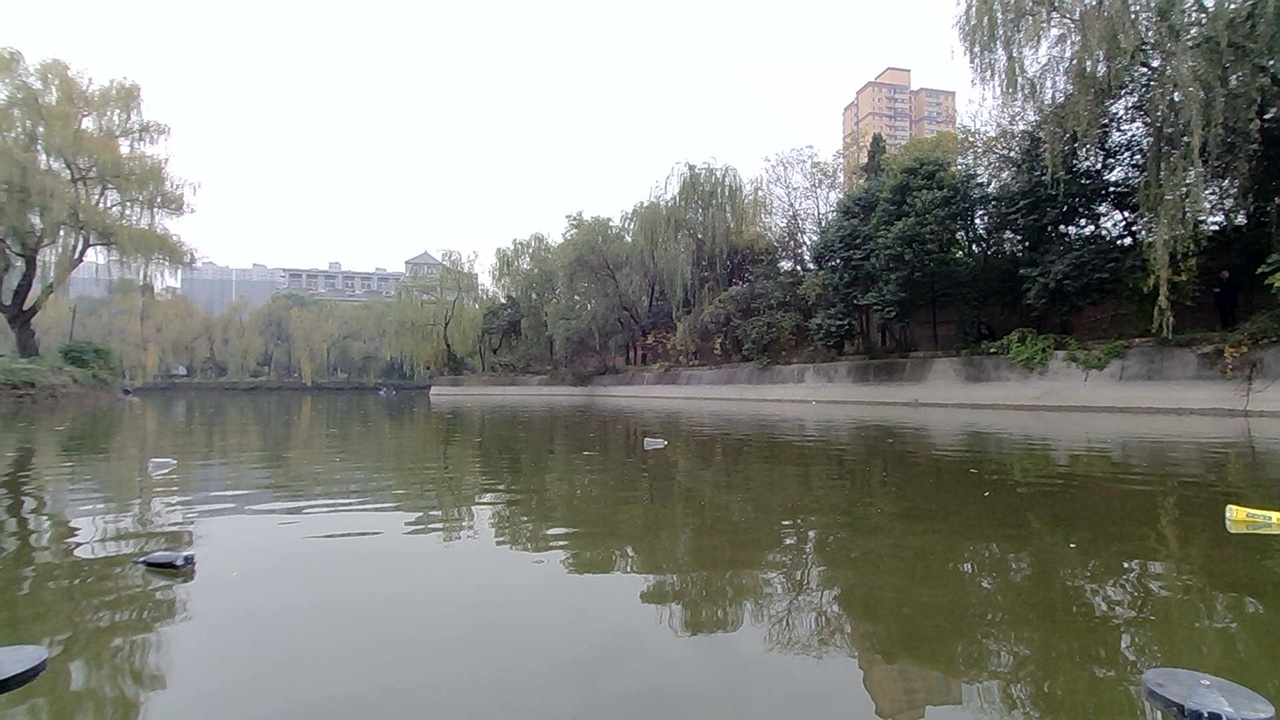bottle: (124, 537, 220, 588), (117, 438, 219, 483), (1207, 498, 1278, 541), (630, 414, 682, 451)
